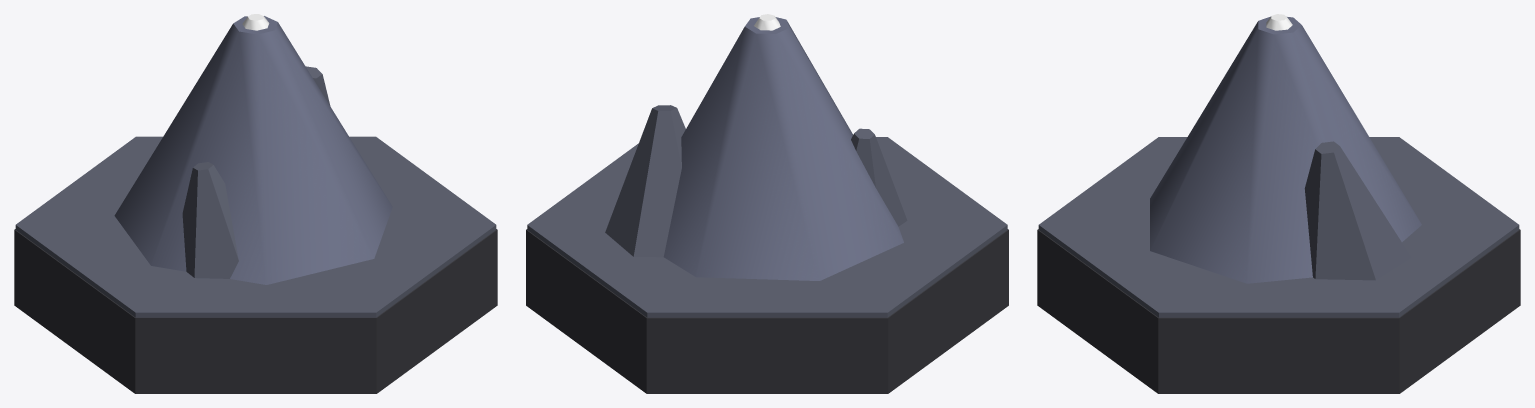
Rendered from stone-mountain.glb.
The picture shows the model from 3 angles, left to right: view 1: azimuth 30°, elevation 25°; view 2: azimuth 150°, elevation 25°; view 3: azimuth 270°, elevation 25°; orthographic projection.
Visible parts, largest first — view 1: stone_mountain; view 2: stone_mountain; view 3: stone_mountain.
Part boxes in pixels (x1,y1,x2,y2): stone_mountain: (14,14,497,393); stone_mountain: (526,14,1008,393); stone_mountain: (1037,14,1520,393).
Size of the model in its own units: 1 by 0.76 by 1.15.
1 material, 1 textured.
